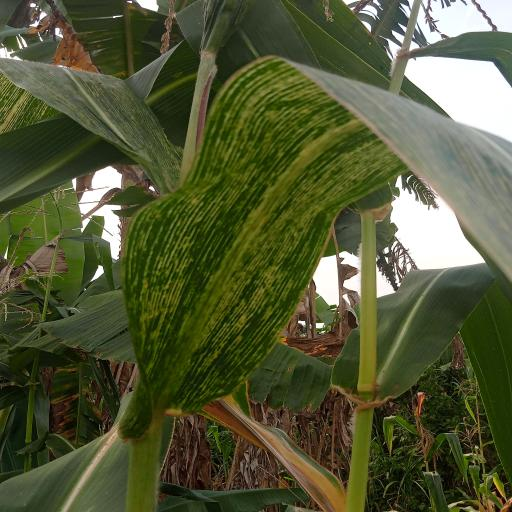Corn_Streak: (126, 58, 512, 422)
